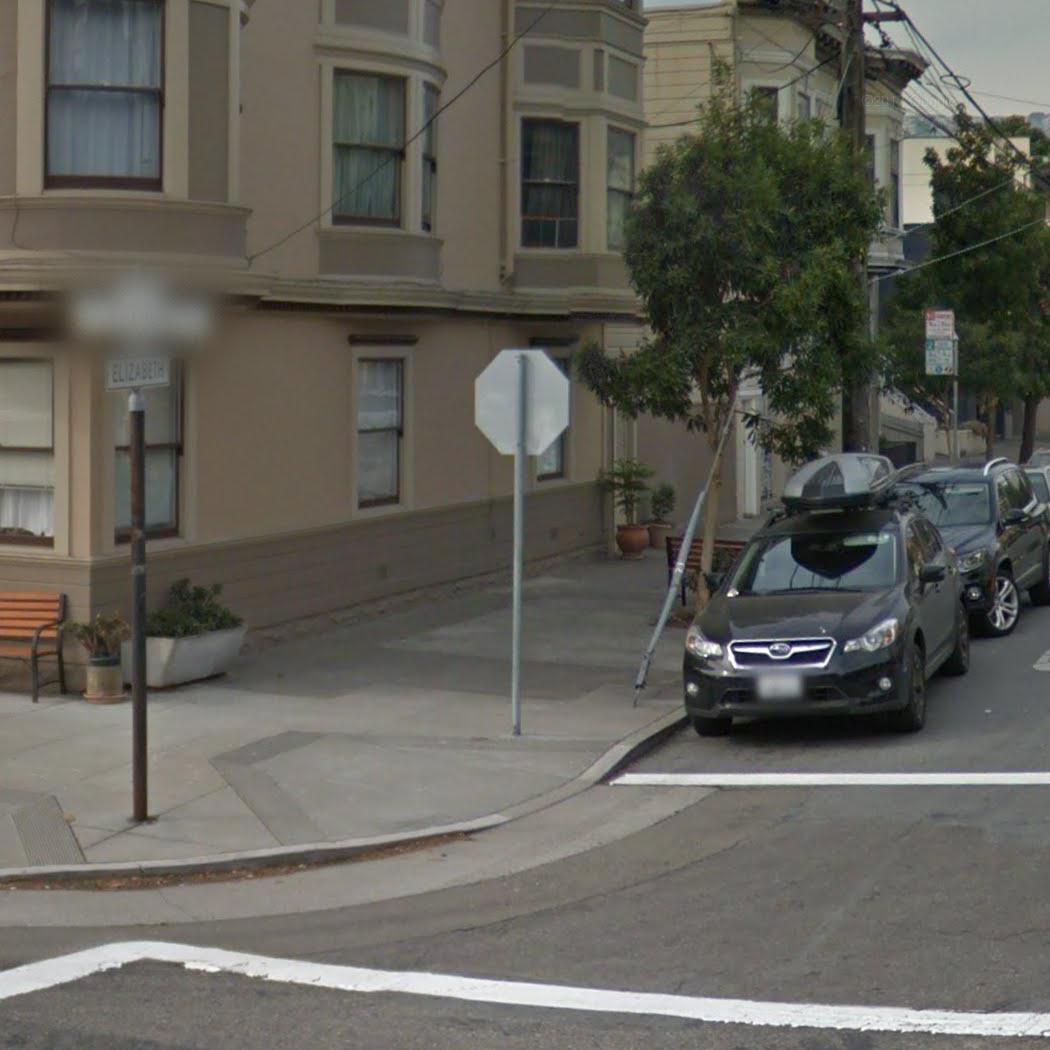2 Hour Parking: (923, 340, 955, 377)
No Parking: (924, 307, 954, 341)
